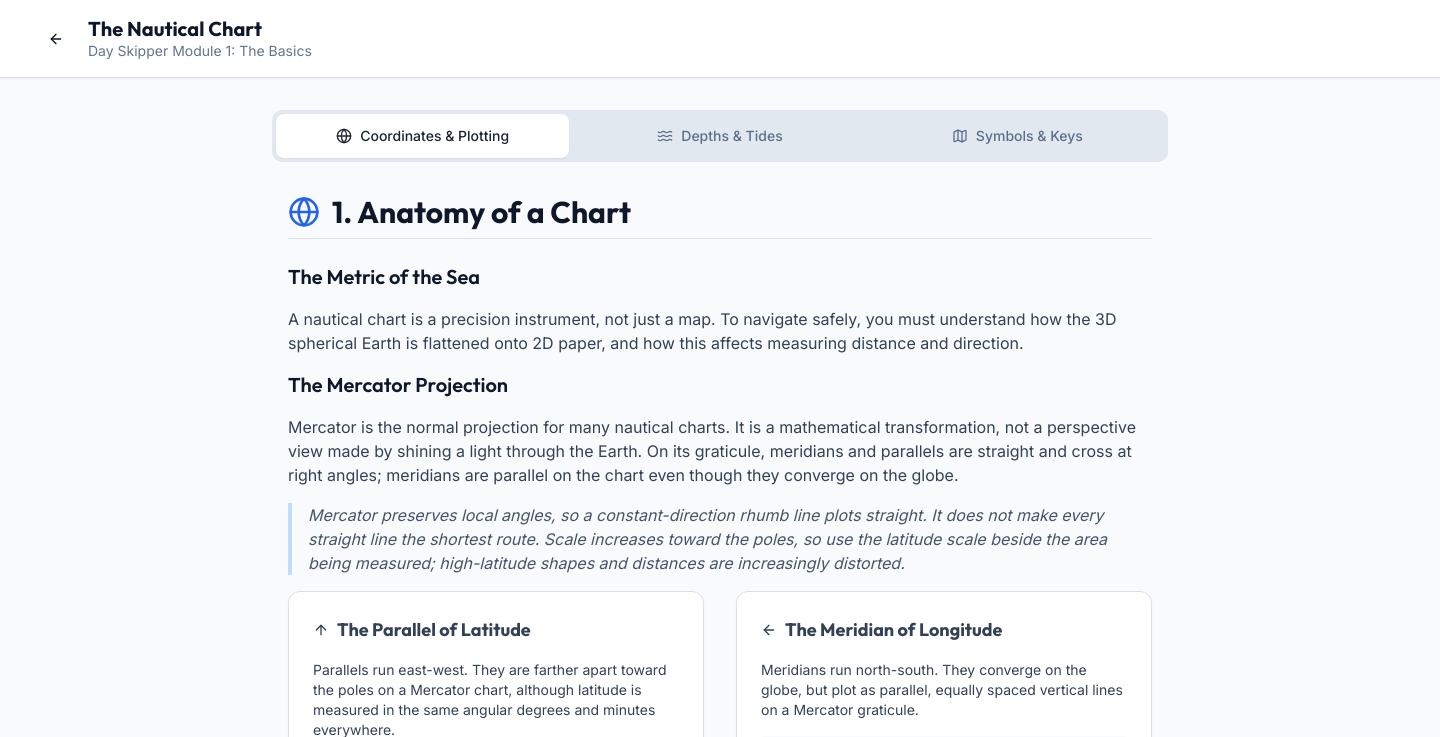
Scenario: ChartsTheory Page › keeps datum advice qualified and includes a checked worked UKC procedure
Click the tab "Depths & Tides": (720, 136) [573,114,867,158]
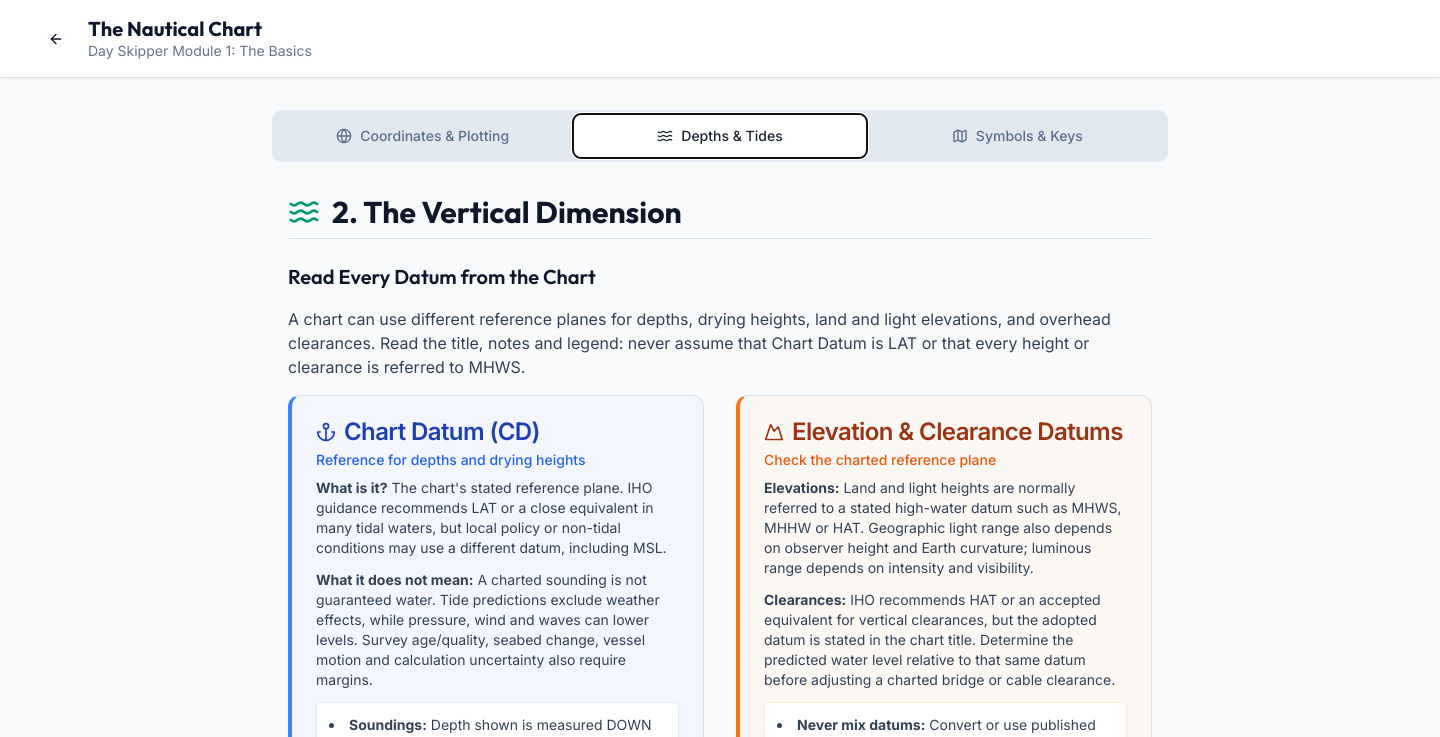
Check: the text "never assume that Chart Datum is LAT" is shown, box [288,309,1111,377]
Click the tab "Symbols & Keys": (1017, 136) [871,114,1164,158]
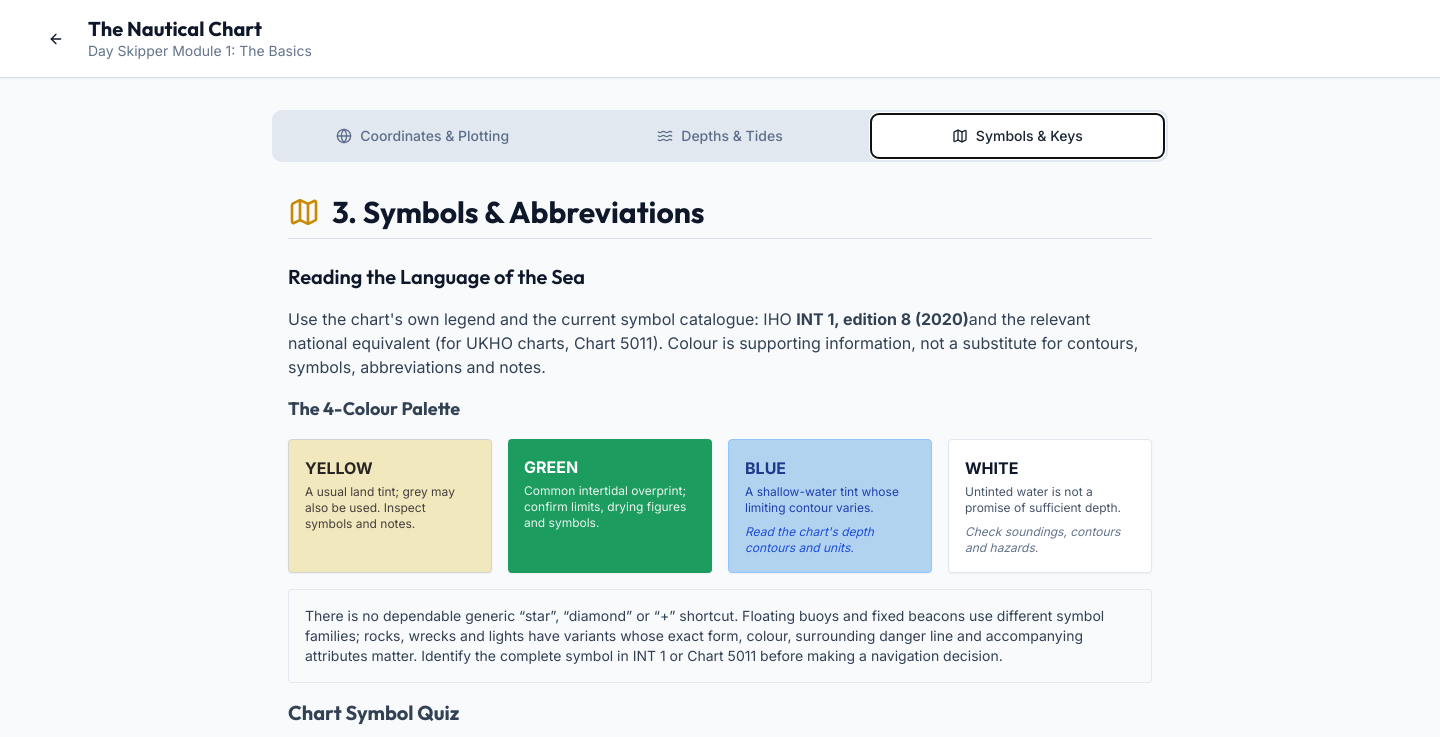
Check: the text "Untinted water is not a promise of sufficient depth." is shown, box [965,484,1135,516]
